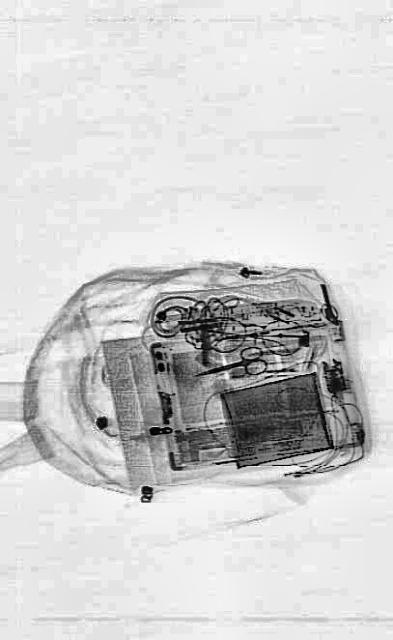Scissors: (192, 341, 268, 391)
